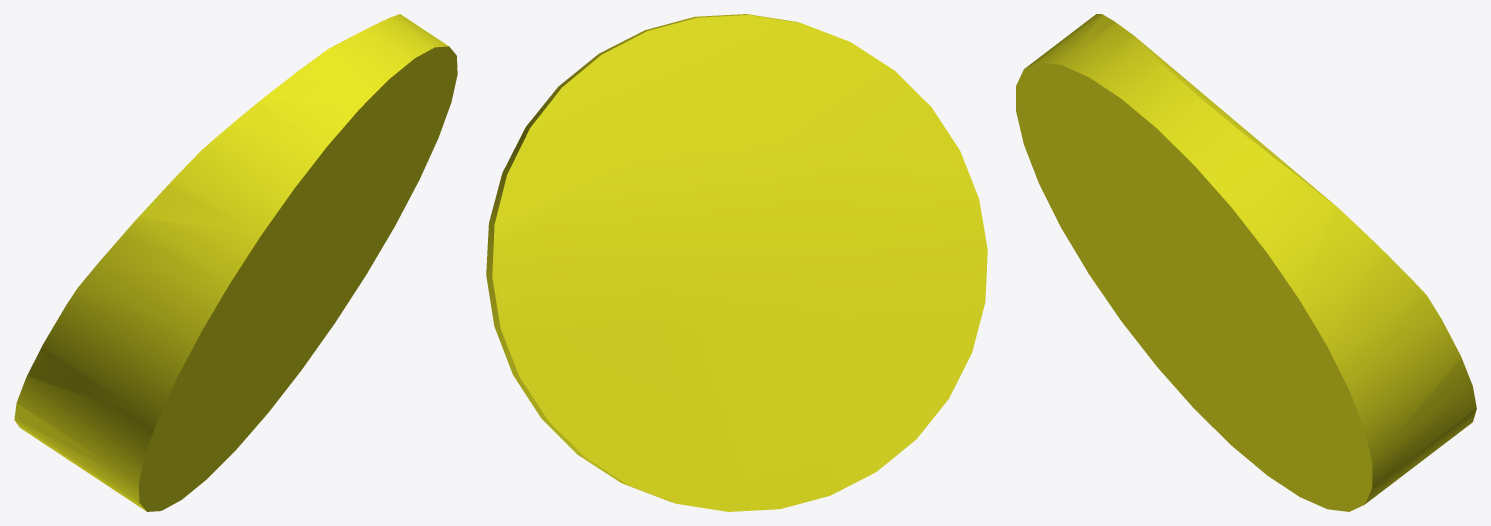
3 renders of one model, left to right at view 1: azimuth 30°, elevation 25°; view 2: azimuth 150°, elevation 25°; view 3: azimuth 270°, elevation 25°, orthographic. The views are drawn at different scales.
Parts seen in each view (by area): view 1: circle.001; view 2: circle.001; view 3: circle.001.
Part boxes in pixels (box(x1,y1,x2,y2)): circle.001: box(14, 14, 457, 511); circle.001: box(486, 14, 987, 511); circle.001: box(1016, 14, 1476, 511).
Size of the model in its own units: 199 by 193 by 168.
